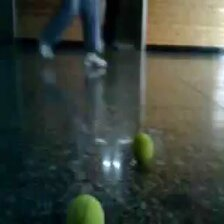tennis: (63, 195, 107, 224), (130, 132, 156, 167)
